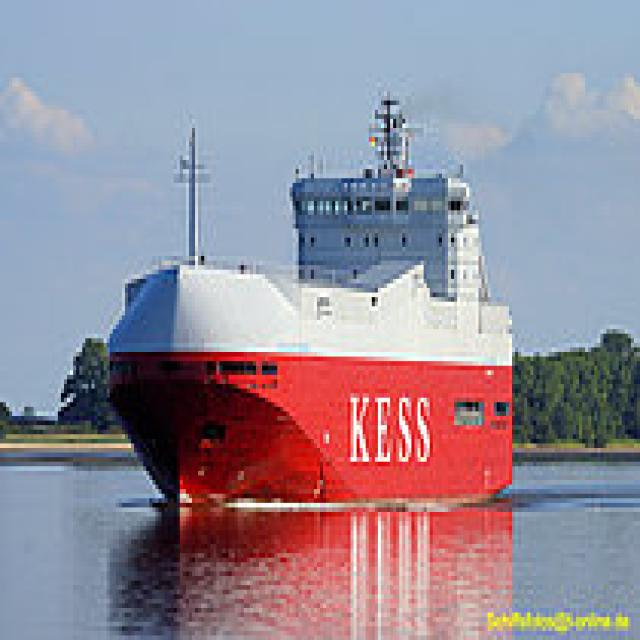Carrier: (98, 78, 515, 516)
